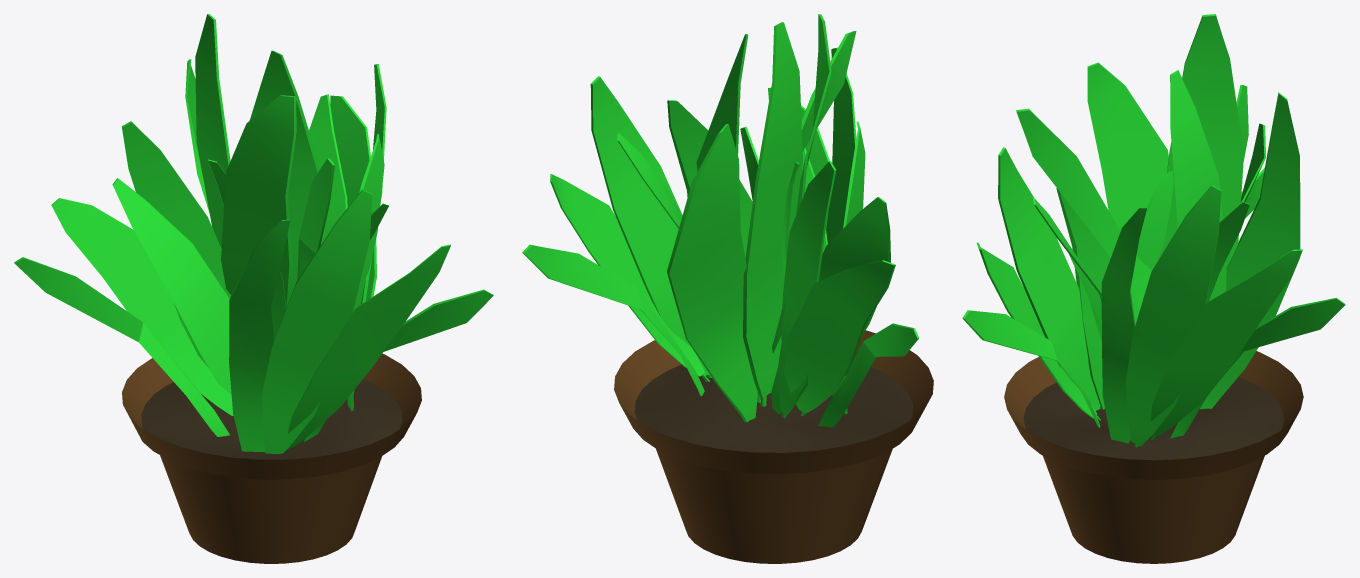
Rendered from pottedPlant_SamuelGragg.fbx.
The picture shows the model from 3 angles, left to right: view 1: azimuth 30°, elevation 25°; view 2: azimuth 150°, elevation 25°; view 3: azimuth 270°, elevation 25°; orthographic projection. The views are drawn at different scales.
Visible parts, largest first — view 1: Cylinder; view 2: Cylinder; view 3: Cylinder.
Part boxes in pixels (left/top/right/bottom): Cylinder: left=14, top=14, right=493, bottom=563; Cylinder: left=522, top=14, right=933, bottom=563; Cylinder: left=962, top=14, right=1345, bottom=563.
Bounding box in the file's own units: 224 × 312 × 217.
